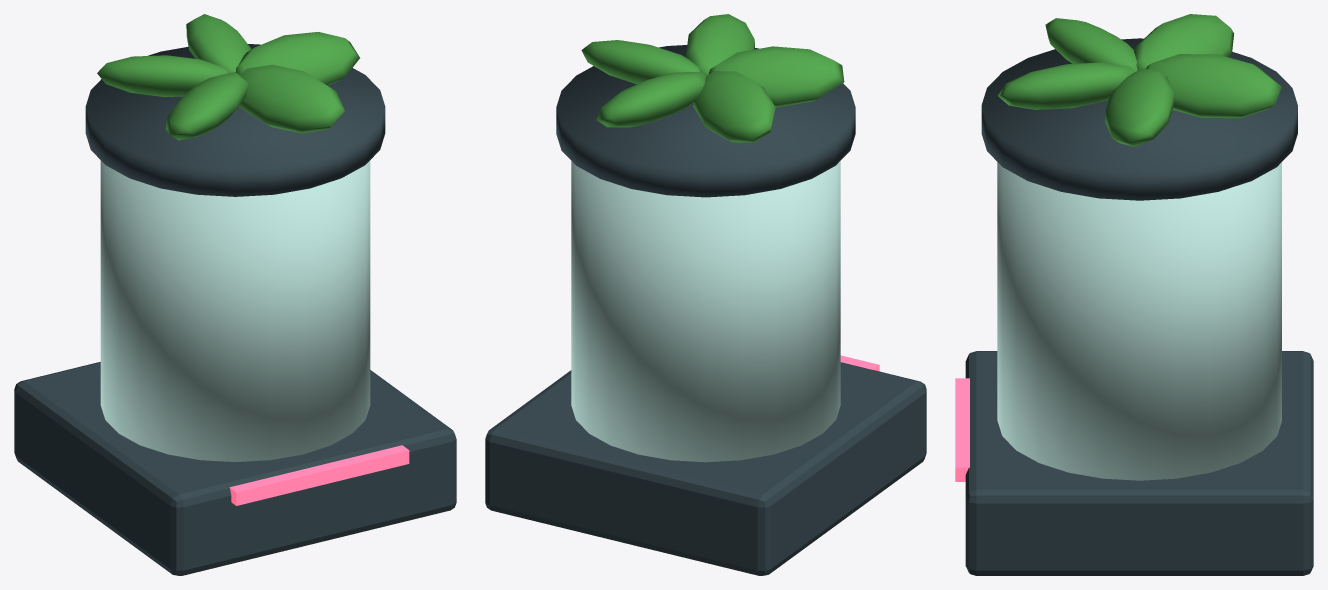
The model's file is Barrier5.fbx.
3 renders of one model, left to right at view 1: azimuth 30°, elevation 25°; view 2: azimuth 150°, elevation 25°; view 3: azimuth 270°, elevation 25°, orthographic. The views are drawn at different scales.
Visible parts, largest first — view 1: Glass_Tank0, Planter_Base0, Planter_Cap0, Leaf_Leaf4.002, Leaf_Leaf0.002, Leaf_Leaf2.002, Glow_Lamp0, Leaf_Leaf3.002, Leaf_Leaf1.002; view 2: Glass_Tank0, Planter_Base0, Planter_Cap0, Leaf_Leaf3.002, Leaf_Leaf2.002, Leaf_Leaf1.002, Leaf_Leaf0.002, Leaf_Leaf4.002; view 3: Glass_Tank0, Planter_Base0, Planter_Cap0, Leaf_Leaf1.002, Leaf_Leaf4.002, Leaf_Leaf0.002, Leaf_Leaf2.002, Leaf_Leaf3.002, Glow_Lamp0.
Part boxes in pixels (bbox=[...]): Glass_Tank0: bbox=[100, 160, 370, 461]; Planter_Base0: bbox=[14, 362, 456, 575]; Planter_Cap0: bbox=[85, 44, 385, 196]; Leaf_Leaf4.002: bbox=[238, 64, 344, 133]; Leaf_Leaf0.002: bbox=[236, 32, 359, 85]; Leaf_Leaf2.002: bbox=[97, 55, 228, 96]; Glow_Lamp0: bbox=[229, 445, 409, 505]; Leaf_Leaf3.002: bbox=[166, 72, 248, 140]; Leaf_Leaf1.002: bbox=[186, 14, 251, 72]; Glass_Tank0: bbox=[571, 161, 840, 462]; Planter_Base0: bbox=[485, 362, 926, 575]; Planter_Cap0: bbox=[556, 45, 855, 197]; Leaf_Leaf3.002: bbox=[708, 46, 844, 107]; Leaf_Leaf2.002: bbox=[693, 71, 775, 142]; Leaf_Leaf1.002: bbox=[597, 72, 705, 127]; Leaf_Leaf0.002: bbox=[581, 40, 700, 84]; Leaf_Leaf4.002: bbox=[686, 14, 754, 75]; Glass_Tank0: bbox=[997, 162, 1281, 480]; Planter_Base0: bbox=[965, 351, 1313, 575]; Planter_Cap0: bbox=[981, 38, 1297, 200]; Leaf_Leaf1.002: bbox=[1146, 54, 1281, 118]; Leaf_Leaf4.002: bbox=[998, 62, 1135, 109]; Leaf_Leaf0.002: bbox=[1105, 68, 1174, 146]; Leaf_Leaf2.002: bbox=[1134, 14, 1233, 70]; Leaf_Leaf3.002: bbox=[1045, 18, 1137, 71]; Glow_Lamp0: bbox=[955, 378, 969, 481].
Size of the model in its own units: 0.66 by 0.68 by 0.9482.
